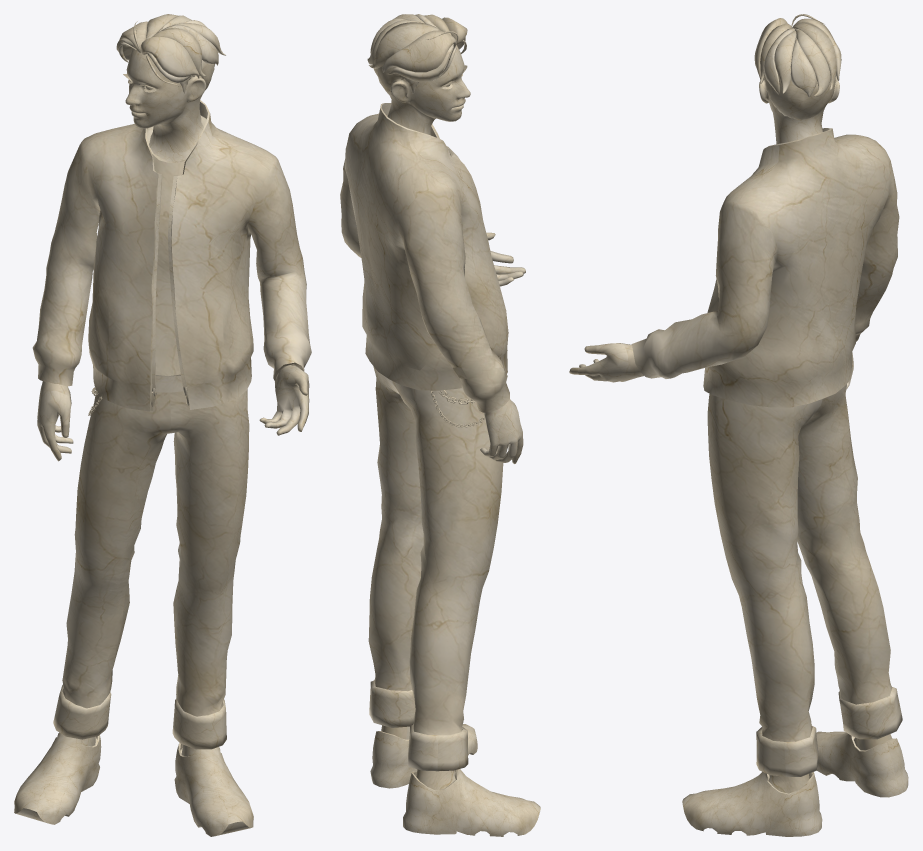
Rendered from Sample_Avatar_M_003.fbx.
3 views of the same model, side by side, from view 1: azimuth 30°, elevation 25°; view 2: azimuth 150°, elevation 25°; view 3: azimuth 270°, elevation 25° (orthographic). The views are drawn at different scales.
Visible parts, largest first — view 1: Sample_Avatar_M_003; view 2: Sample_Avatar_M_003; view 3: Sample_Avatar_M_003.
Part boxes in pixels (left/top/right/bottom): Sample_Avatar_M_003: left=14, top=14, right=311, bottom=836; Sample_Avatar_M_003: left=340, top=14, right=540, bottom=836; Sample_Avatar_M_003: left=569, top=14, right=908, bottom=836.
Bounding box in the file's own units: 0.5781 × 1.8 × 0.7018.
